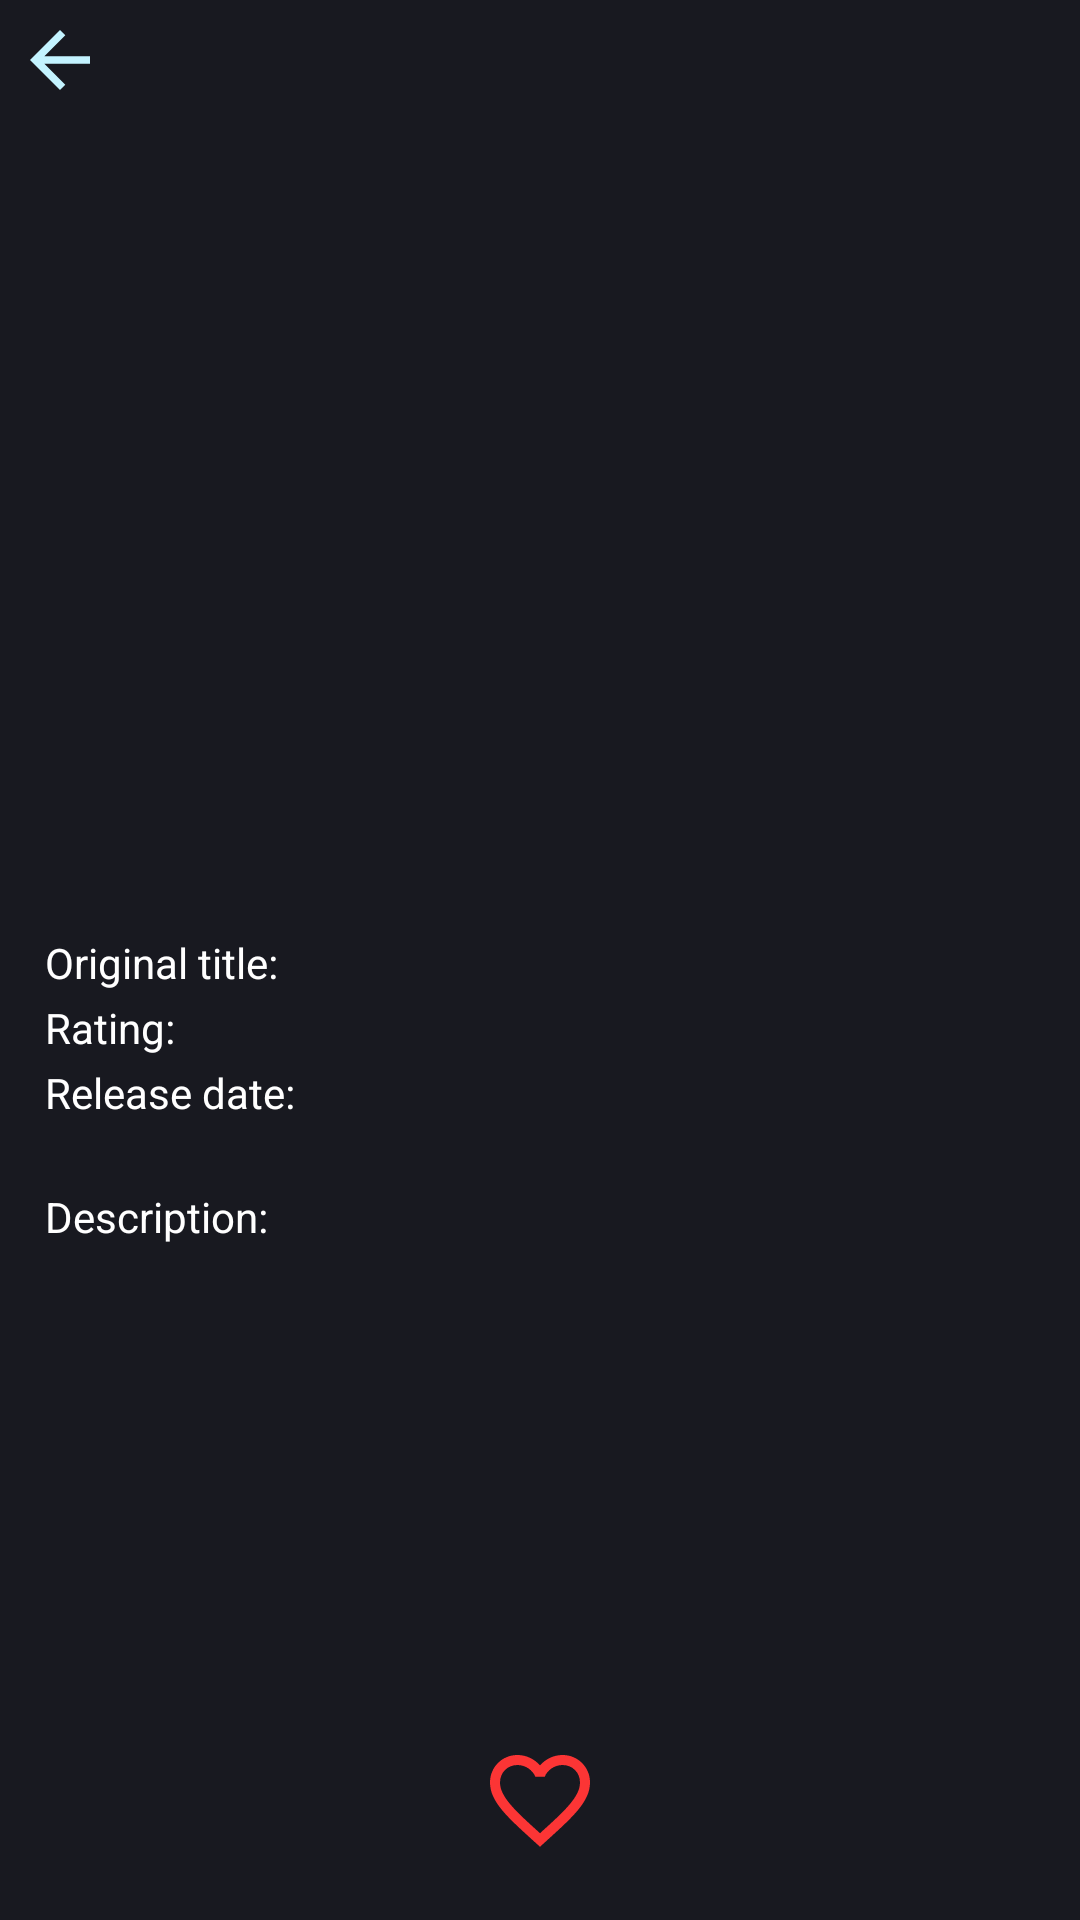

Named icons in this screenshot (1080px x 1920px) and their centers, (x=x, y=y):
arrow back: (x=60, y=60)
favorite border: (x=540, y=1801)
